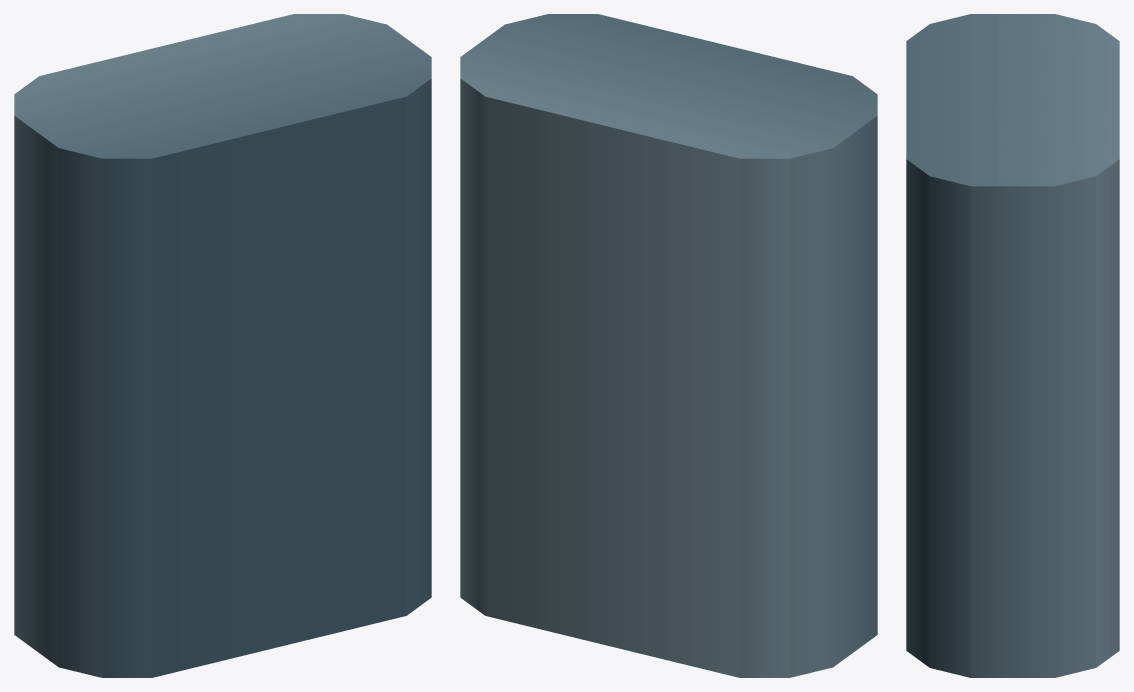
File: Brick 01.FBX
3 renders of one model, left to right at view 1: azimuth 30°, elevation 25°; view 2: azimuth 150°, elevation 25°; view 3: azimuth 270°, elevation 25°, orthographic. The views are drawn at different scales.
Parts seen in each view (by area): view 1: Brick 01; view 2: Brick 01; view 3: Brick 01.
Boxes of the visible parts, x1=… form: Brick 01: x1=14, y1=14, x2=431, y2=677; Brick 01: x1=460, y1=14, x2=877, y2=677; Brick 01: x1=906, y1=14, x2=1119, y2=677.
Bounding box in the file's own units: 46.8 × 62.27 × 24.52.
Materials: 1 (1 with a texture image).
